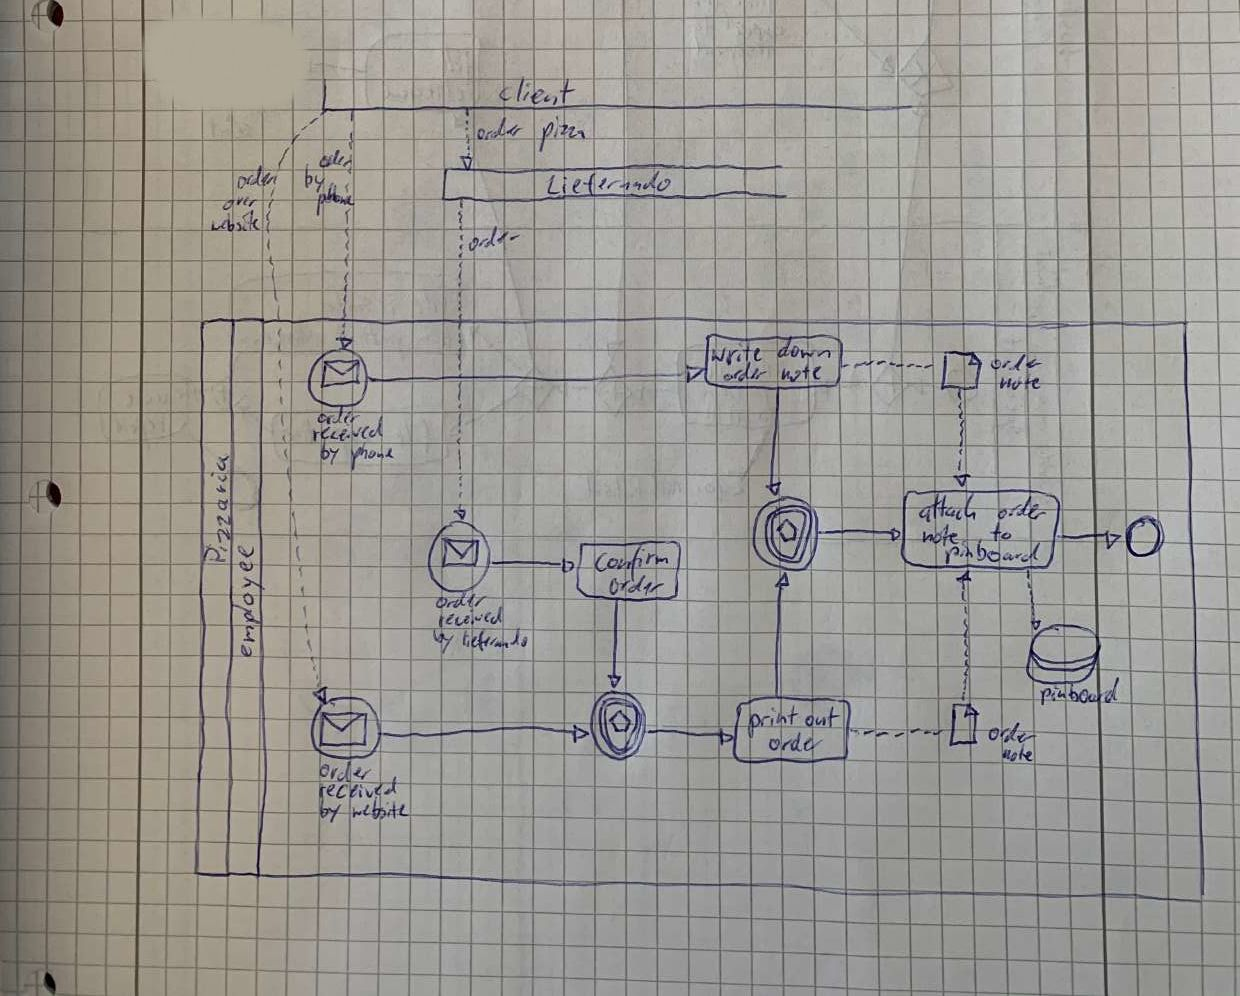Lieferando: (542, 169, 673, 199)
Pizzaria: (203, 452, 231, 566)
attach: (917, 497, 990, 525)
by: (299, 167, 333, 193), (317, 802, 346, 825), (431, 628, 457, 652), (316, 445, 347, 465)
client: (496, 77, 577, 107)
confirm: (590, 548, 671, 576)
down: (774, 338, 835, 363)
employee: (233, 542, 267, 658)
lieferando: (458, 629, 534, 653)
note: (922, 526, 969, 549), (781, 363, 825, 385), (997, 373, 1045, 392), (1001, 744, 1035, 765)
order: (466, 225, 523, 256), (993, 495, 1052, 523), (767, 731, 830, 755), (987, 714, 1036, 746), (472, 113, 526, 140), (987, 351, 1050, 374), (607, 574, 666, 597), (311, 404, 362, 428), (233, 167, 278, 192), (431, 592, 490, 611), (722, 365, 772, 386), (317, 763, 372, 783), (313, 149, 355, 169)
out: (802, 708, 845, 735)
over: (220, 187, 259, 215)
phone: (312, 188, 358, 215), (350, 446, 396, 470)
pinboard: (1035, 678, 1124, 715), (946, 540, 1047, 568)
pizza: (534, 116, 593, 147)
print: (747, 707, 799, 735)
received: (314, 777, 401, 802), (309, 424, 390, 443), (435, 608, 507, 629)
to: (987, 523, 1019, 549)
website: (350, 801, 410, 824), (209, 212, 266, 235)
write: (704, 343, 769, 365)
